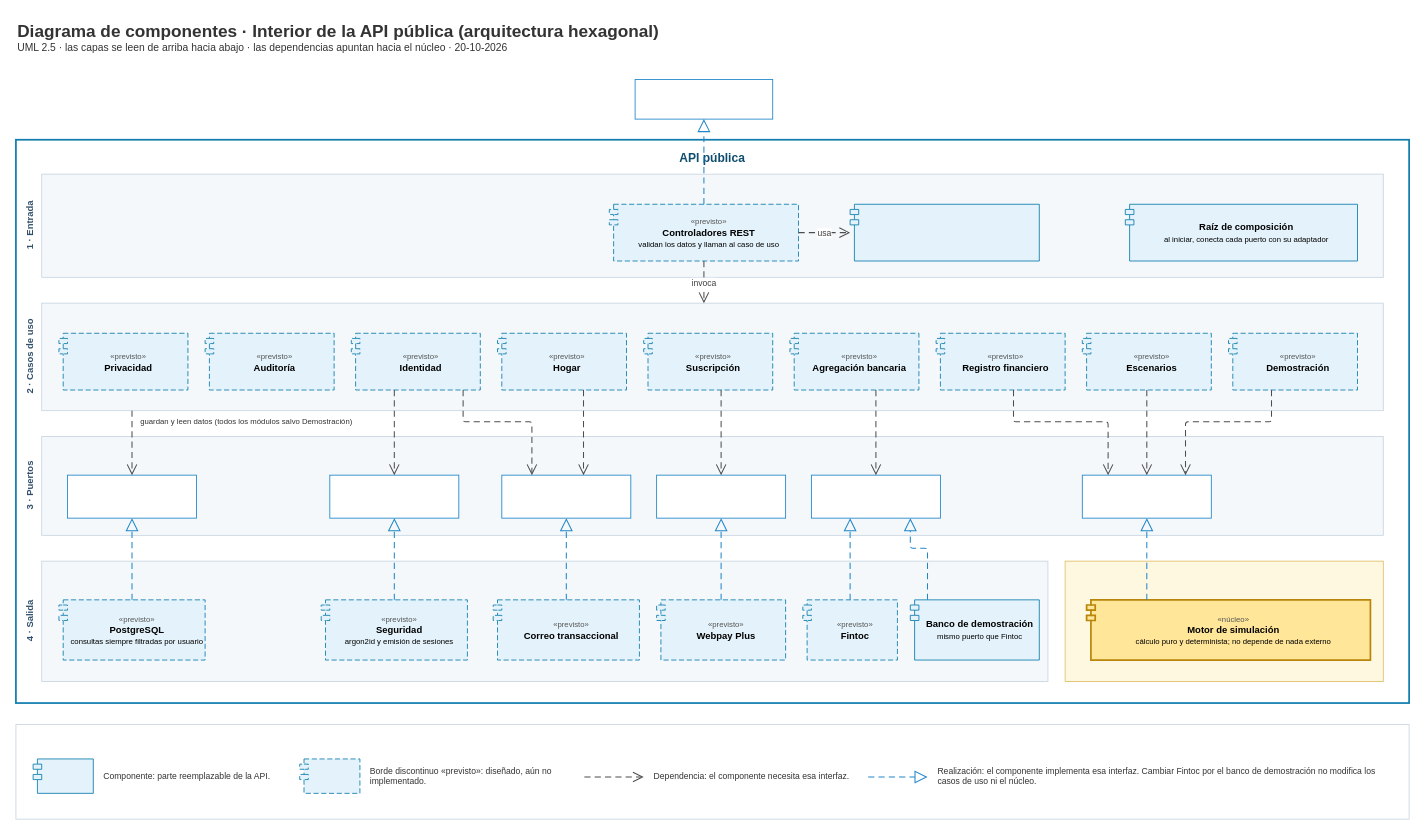
The diagram is 1424 pixels wide and 834 high, and some of its shapes have lost their labels. Each missing label, with the box of its shape:
5. Núcleo: (1064, 560, 1383, 682)
Errores HTTP uniformes misma forma de error en toda la API: (849, 203, 1039, 261)
Notación UML 2.5: (15, 724, 1409, 819)
«interfaz» Agregador bancario: (811, 474, 940, 518)
«interfaz» API REST /v1: (634, 79, 773, 119)
«interfaz» Envío de correo: (501, 474, 631, 518)
«interfaz» Pasarela de pago: (656, 474, 786, 518)
«interfaz» Persistencia: (67, 474, 197, 518)
«interfaz» Seguridad de acceso: (329, 474, 459, 518)
«interfaz» Simulación: (1081, 474, 1211, 518)
